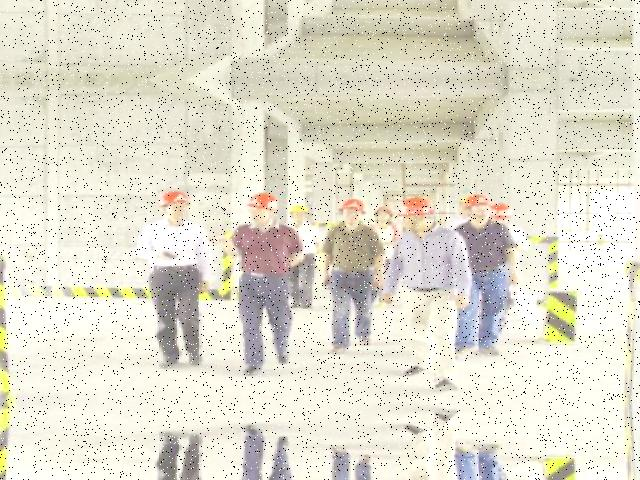Helmet: (397, 194, 442, 220), (245, 189, 284, 213), (157, 186, 197, 209), (464, 190, 497, 211), (340, 196, 370, 213)
